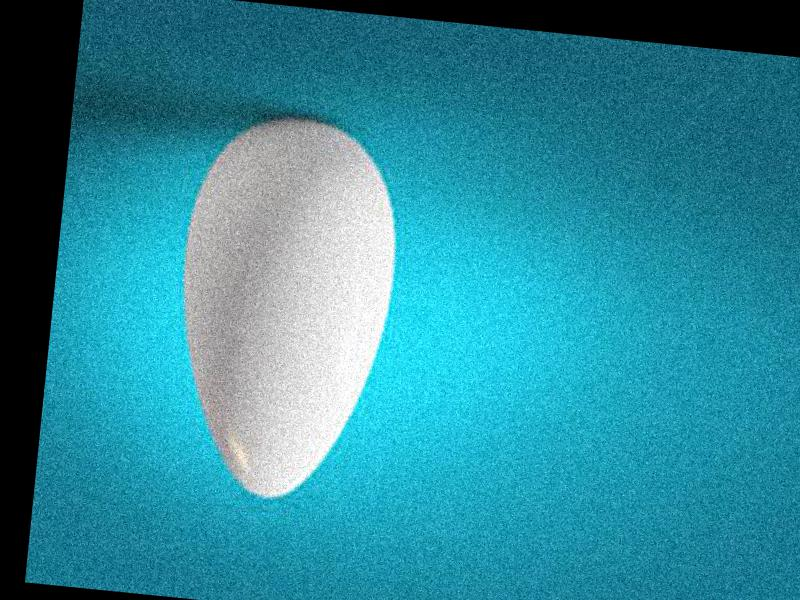Eggs: (160, 107, 408, 505)
